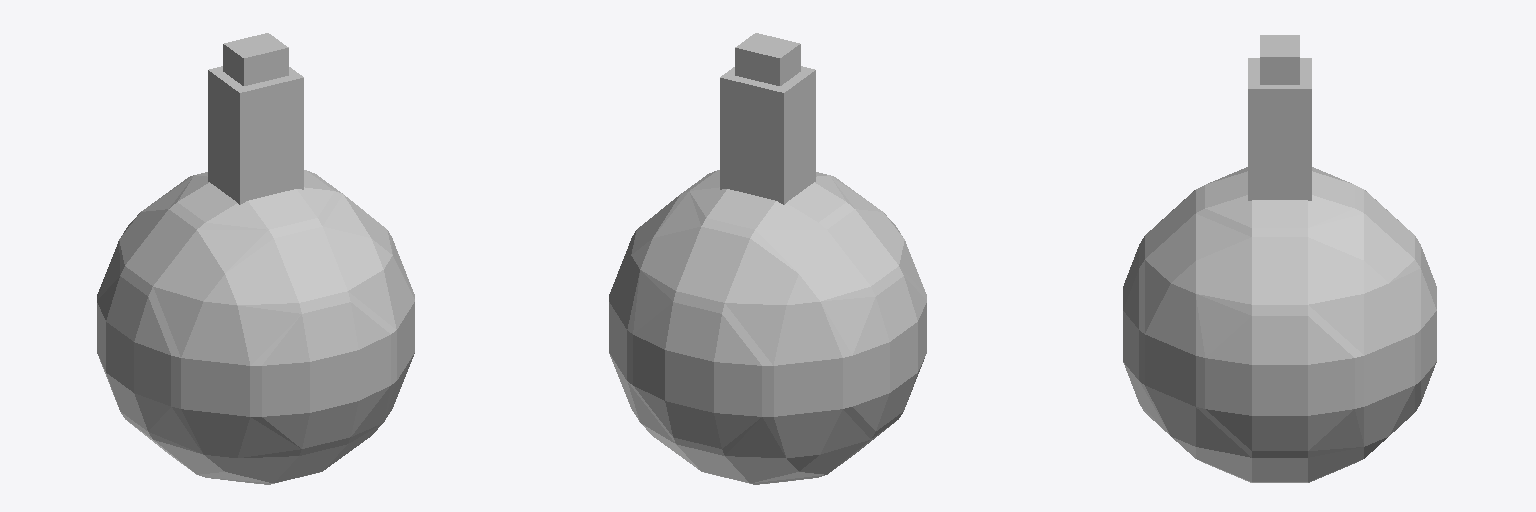
File: potion.obj
3 views of the same model, side by side, from view 1: azimuth 30°, elevation 25°; view 2: azimuth 150°, elevation 25°; view 3: azimuth 270°, elevation 25° (orthographic).
Visible parts, largest first — view 1: Mball, Cube, Cube.001; view 2: Mball, Cube, Cube.001; view 3: Mball, Cube, Cube.001.
Boxes of the visible parts, <box> form: Mball: <box>97,170,414,484</box>; Cube: <box>208,66,303,204</box>; Cube.001: <box>223,33,288,85</box>; Mball: <box>609,170,926,484</box>; Cube: <box>720,66,815,204</box>; Cube.001: <box>735,33,800,85</box>; Mball: <box>1123,167,1436,482</box>; Cube: <box>1248,58,1311,200</box>; Cube.001: <box>1260,35,1299,84</box>.
Bounding box in the file's own units: 2.23 × 3.3 × 2.23.